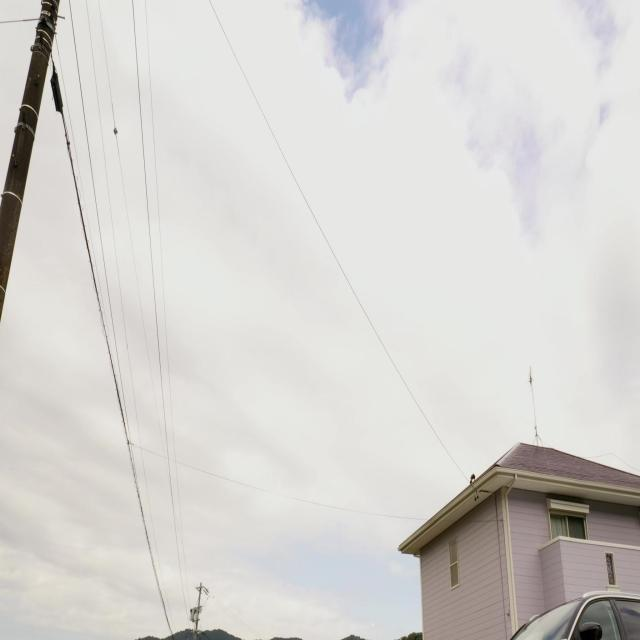Birds: (464, 466, 478, 487)
